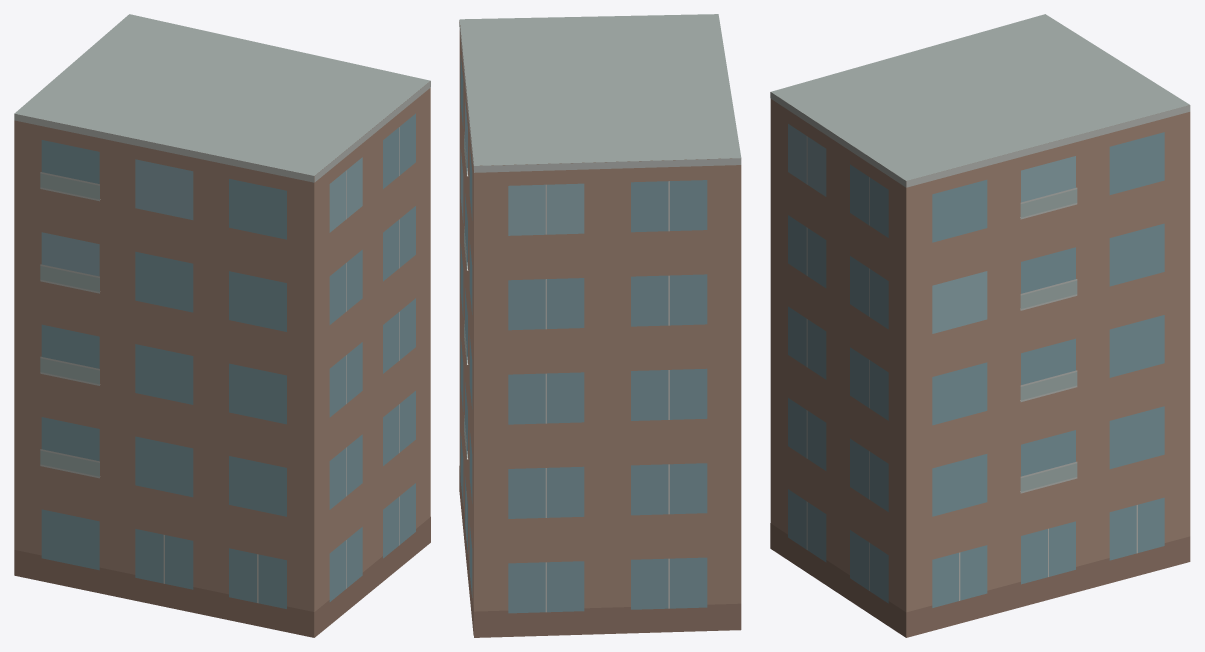
The model's file is survey-upis-33031602.glb.
3 renders of one model, left to right at view 1: azimuth 30°, elevation 25°; view 2: azimuth 150°, elevation 25°; view 3: azimuth 270°, elevation 25°, orthographic. The views are drawn at different scales.
Visible parts, largest first — view 1: survey-upis-33031602.tmp; view 2: survey-upis-33031602.tmp; view 3: survey-upis-33031602.tmp.
Part boxes in pixels (left/top/right/bottom): survey-upis-33031602.tmp: left=14, top=14, right=430, bottom=637; survey-upis-33031602.tmp: left=459, top=14, right=741, bottom=637; survey-upis-33031602.tmp: left=770, top=14, right=1190, bottom=637.
Size of the model in its own units: 13.11 by 16.7 by 13.92.
